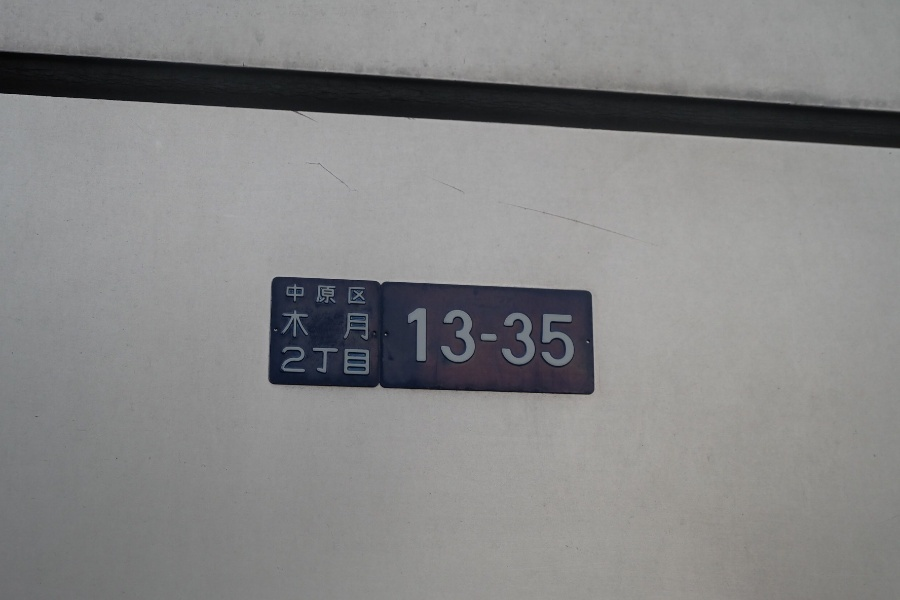text: (417, 305, 432, 370), (433, 305, 448, 370), (449, 305, 464, 370), (465, 305, 480, 370), (481, 305, 496, 370), (497, 305, 512, 370), (513, 305, 528, 370), (529, 305, 544, 370), (545, 305, 560, 370), (561, 305, 576, 370), (405, 305, 416, 370), (289, 309, 304, 346), (305, 309, 320, 346), (321, 309, 336, 346), (337, 309, 352, 346), (353, 309, 368, 346), (289, 345, 304, 378), (305, 345, 320, 378), (321, 345, 336, 378), (337, 345, 352, 378), (353, 345, 368, 378), (289, 284, 304, 310), (305, 284, 320, 310), (321, 284, 336, 310), (337, 284, 352, 310), (353, 284, 368, 310), (280, 309, 288, 346), (280, 345, 288, 378), (283, 284, 288, 310), (369, 309, 371, 346), (369, 345, 371, 378), (369, 284, 370, 310)
